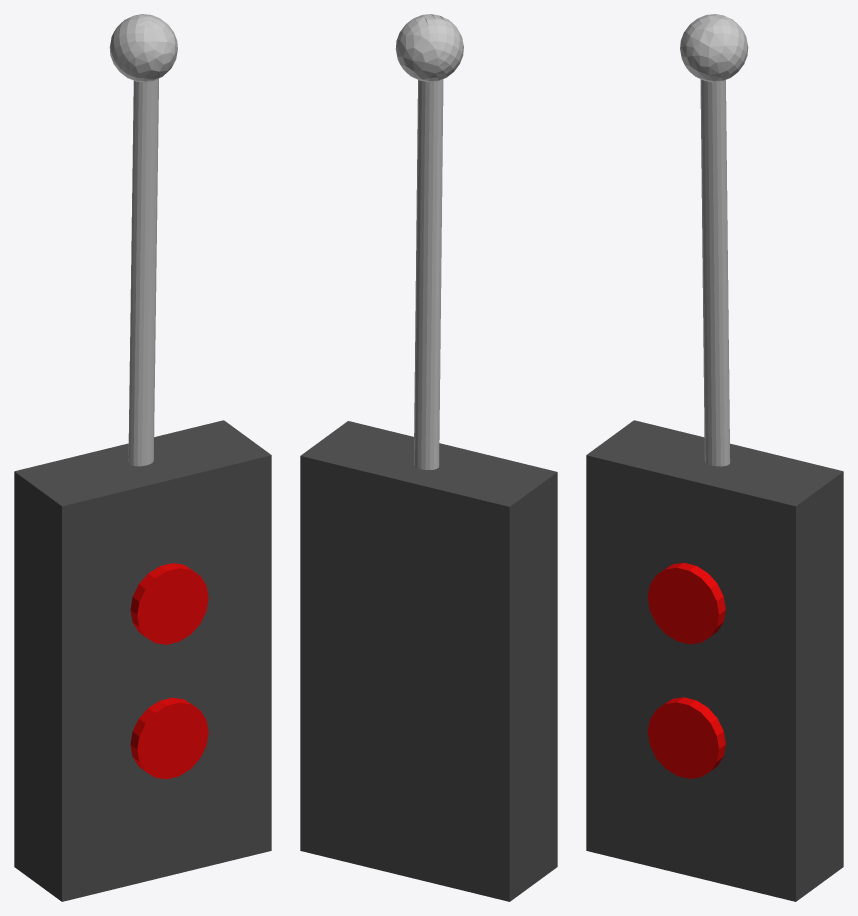
File: controle.dae
3 renders of one model, left to right at view 1: azimuth 30°, elevation 25°; view 2: azimuth 150°, elevation 25°; view 3: azimuth 330°, elevation 25°, orthographic.
Visible parts, largest first — view 1: controle; view 2: controle; view 3: controle.
Part boxes in pixels (x1,y1,x2,y2): controle: (14, 14, 271, 901); controle: (300, 14, 557, 901); controle: (586, 14, 843, 901).
Bounding box in the file's own units: 1.24 × 0.5615 × 4.76.
